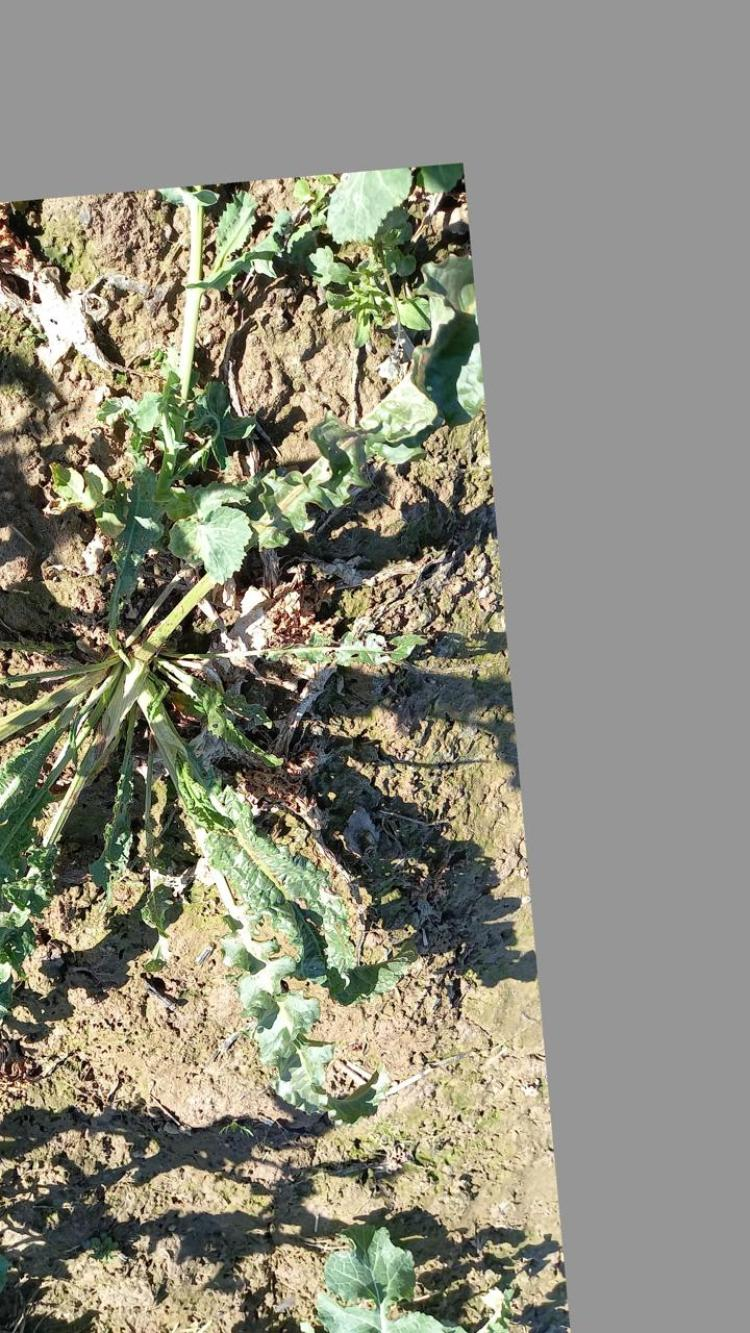zhavel: (12, 206, 442, 1119)
